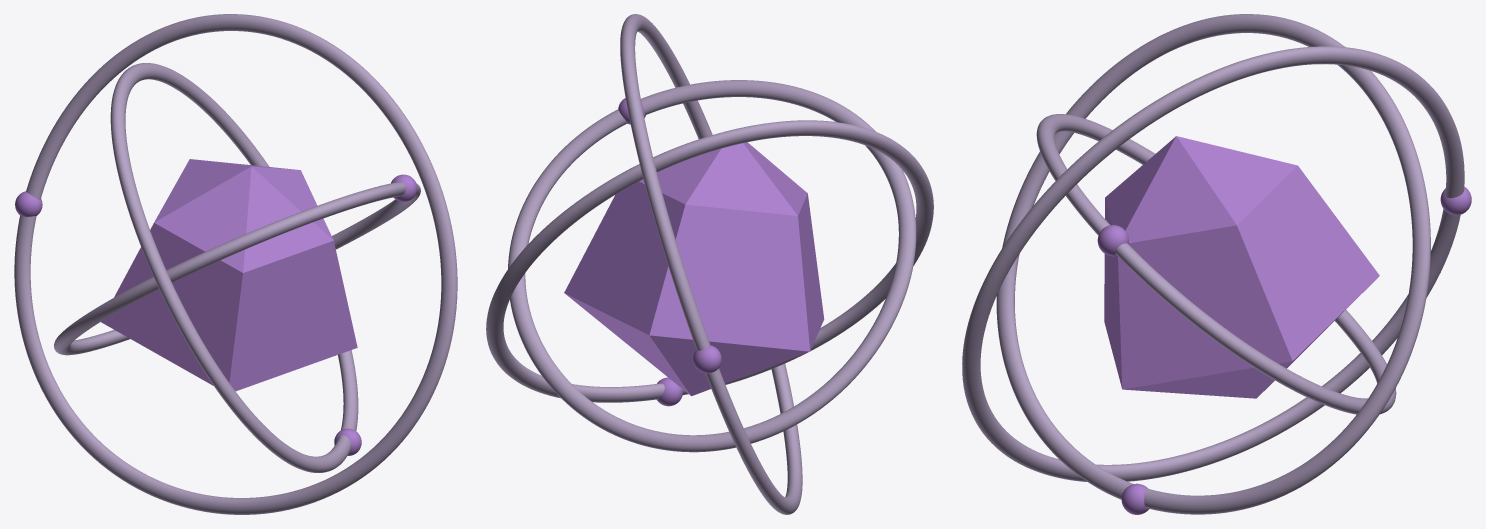
The picture shows the model from 3 angles, left to right: view 1: azimuth 30°, elevation 25°; view 2: azimuth 150°, elevation 25°; view 3: azimuth 270°, elevation 25°; orthographic projection. The views are drawn at different scales.
Bounding box in the file's own units: 0.9344 × 1.12 × 1.06.
